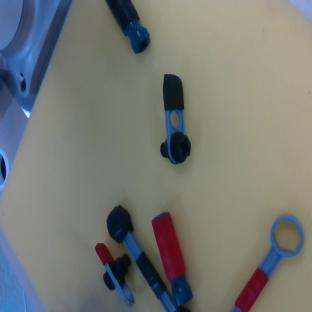part_1_bad: (158, 73, 191, 164)
part_1_good: (92, 236, 143, 311)
part_2_good: (150, 211, 195, 309)
part_3_bad: (100, 203, 177, 312)
